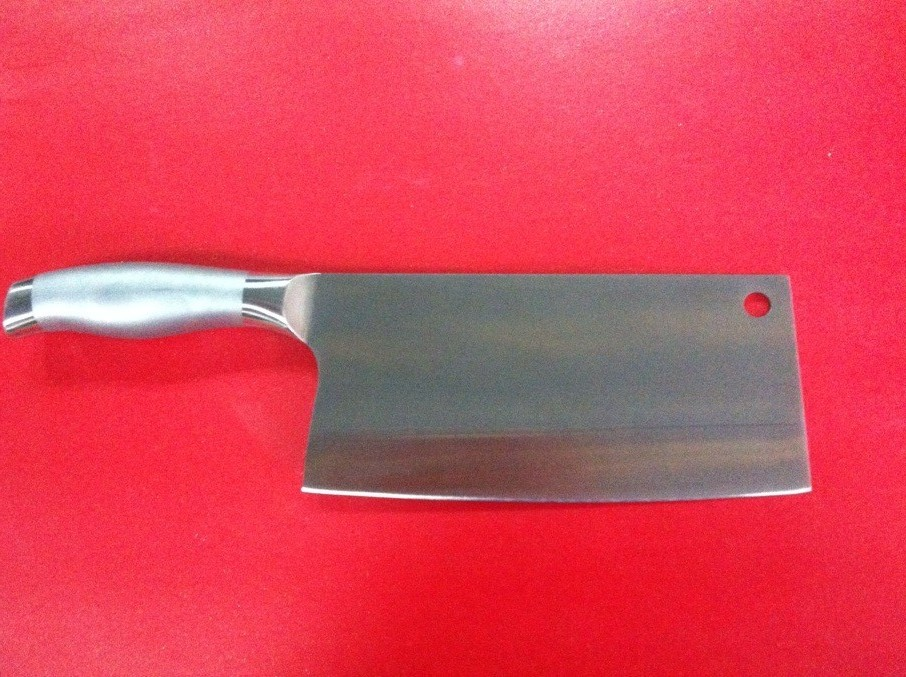knief: (19, 238, 853, 528)
